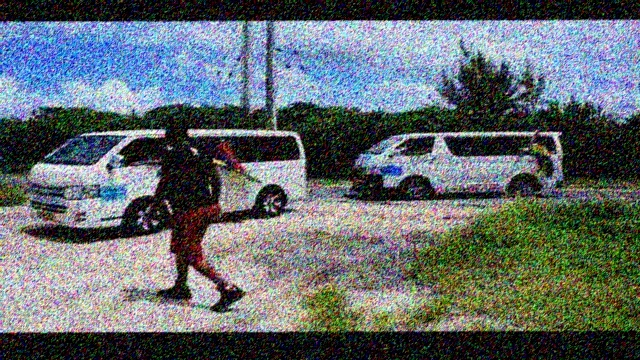van: (24, 128, 309, 234), (346, 126, 568, 202)
